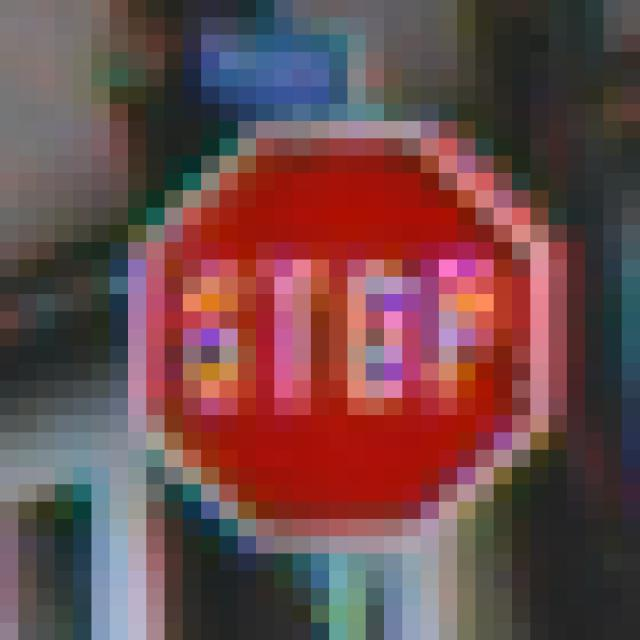STOP: (93, 88, 550, 555)
